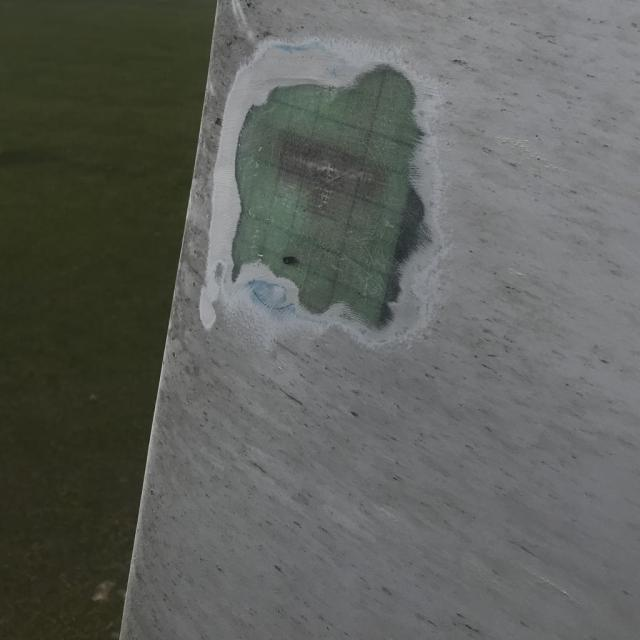surface_peeling: (205, 55, 445, 348)
